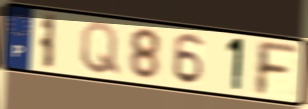1: (223, 36, 246, 95), (38, 12, 58, 73)
6: (170, 32, 207, 87)
8: (127, 27, 164, 82)
F: (254, 38, 300, 99)
Q: (79, 20, 122, 77)
